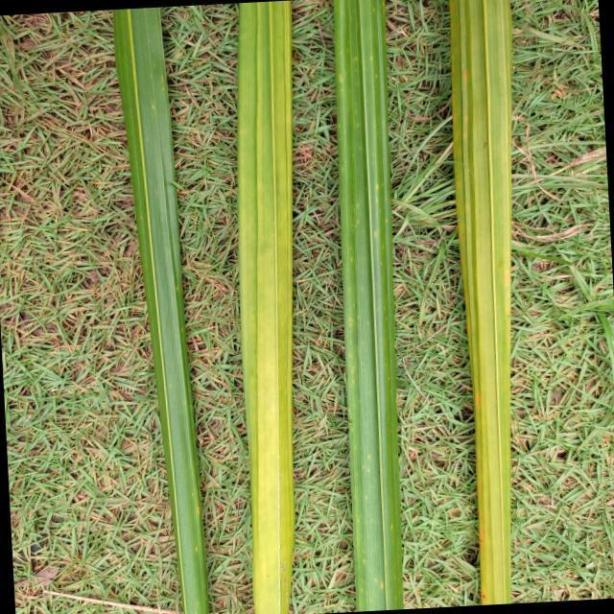nitrogen: (107, 0, 210, 614), (331, 0, 406, 614), (442, 0, 514, 614), (229, 0, 291, 614)
